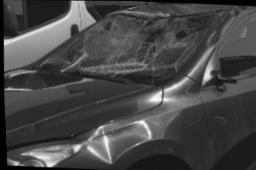Fender: (75, 105, 207, 170)
Windshield: (25, 9, 228, 86)
